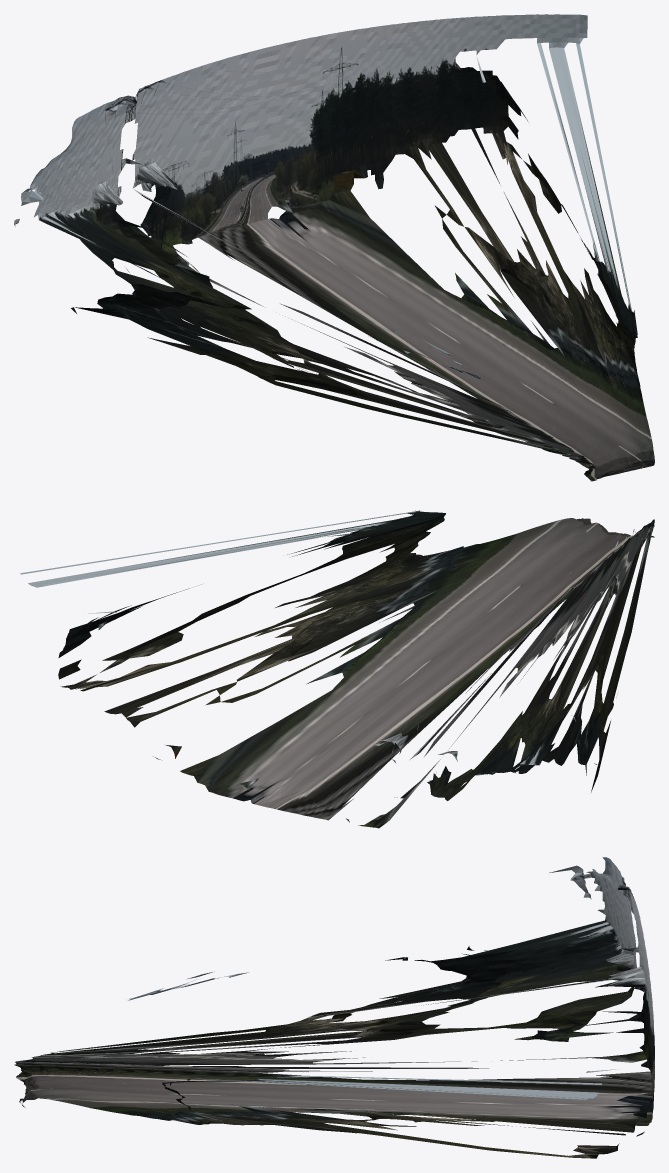
3 renders of one model, top to bottom at view 1: azimuth 30°, elevation 25°; view 2: azimuth 150°, elevation 25°; view 3: azimuth 270°, elevation 25°, orthographic. The views are drawn at different scales.
Visible parts, largest first — view 1: defaultobject; view 2: defaultobject; view 3: defaultobject.
Boxes of the visible parts, x1,y1,x2,y2 form: defaultobject: [14, 14, 654, 481]; defaultobject: [20, 510, 654, 828]; defaultobject: [14, 857, 654, 1158].
Size of the model in its own units: 40.77 by 12.38 by 44.89.
Materials: 1 (1 with a texture image).
